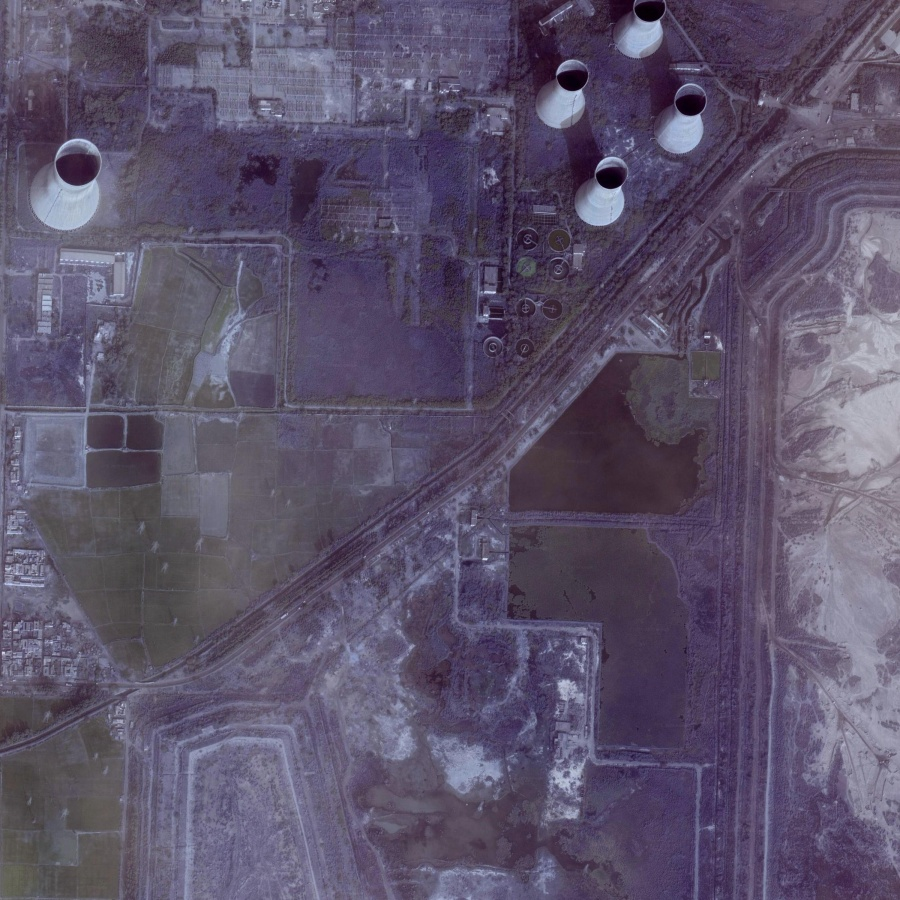PowerPlant: (10, 126, 254, 400)
